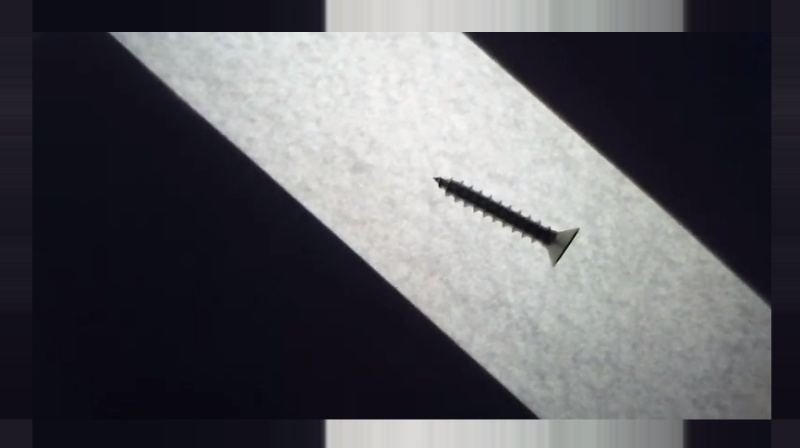S001: (428, 170, 585, 269)
